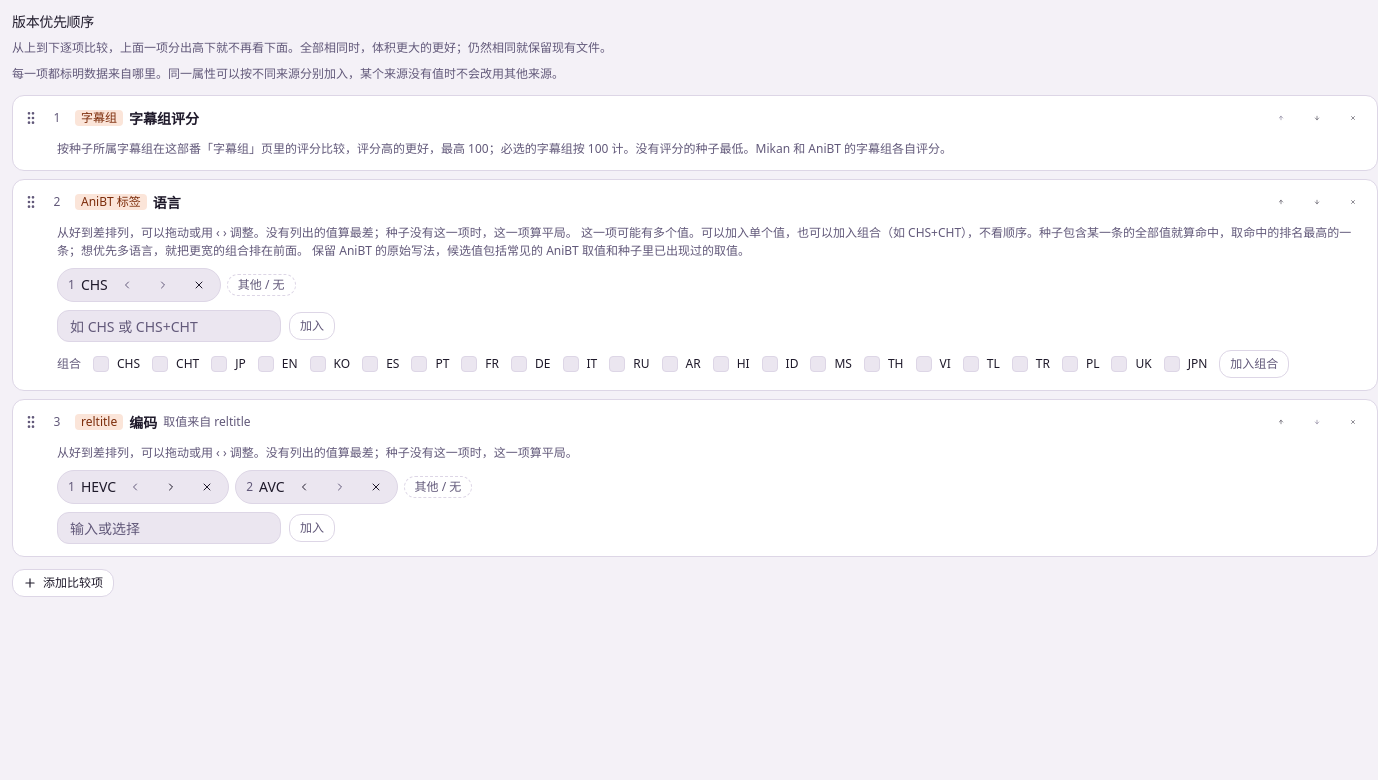
Scenario: QualityCompareEditor › marks rt items as reltitle values and offers new items grouped by source
Expected: the text "取值来自 reltitle" is shown once, x1=163 y1=414 x2=250 y2=430
Click the button "添加比较项" at (63, 583), box x1=12 y1=569 x2=114 y2=597
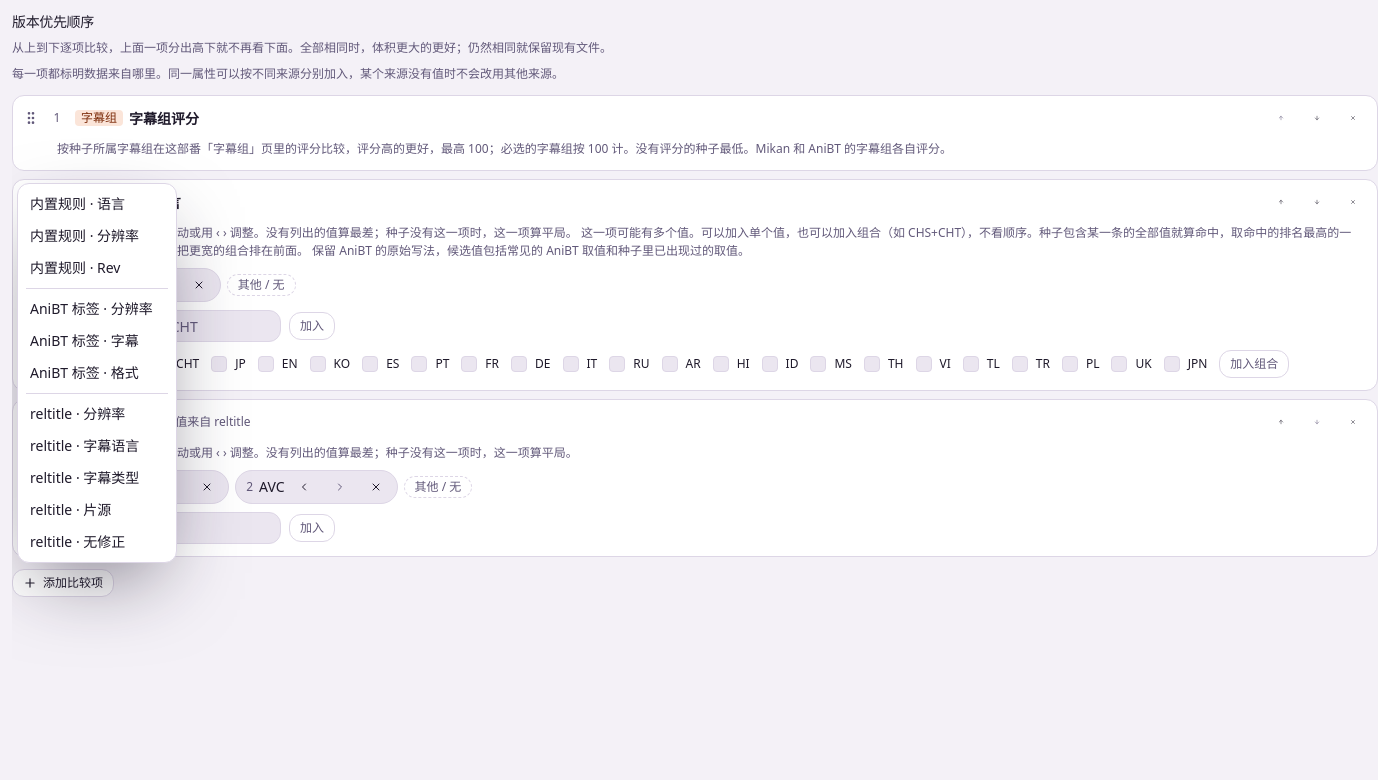
Click the menu item "reltitle · 字幕语言" at (85, 446), box x1=30 y1=436 x2=139 y2=455
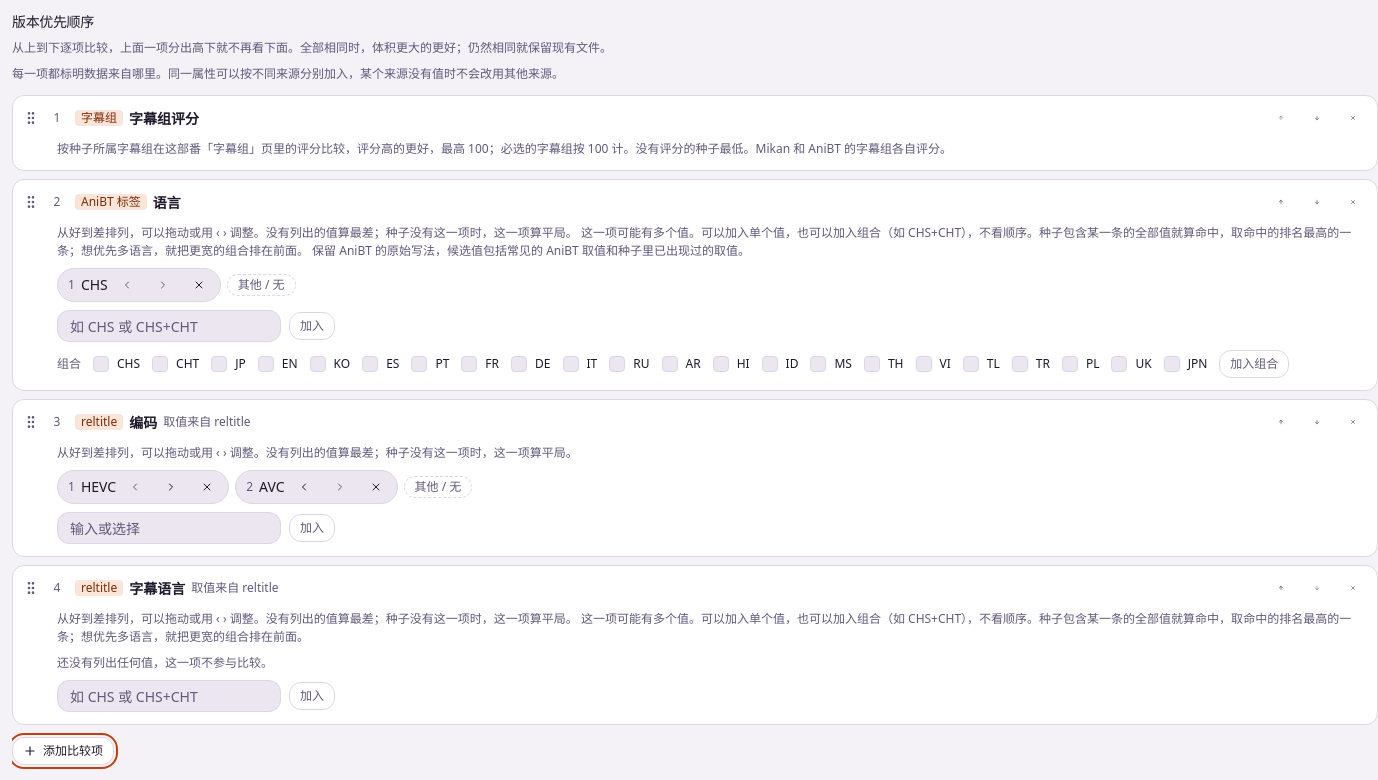
Expected: the text "取值来自 reltitle" is shown 2 times, x1=163 y1=414 x2=250 y2=430; x1=191 y1=580 x2=278 y2=596
Expected: the list item "还没有列出任何值，这一项不参与比较。" is shown, x1=57 y1=654 x2=273 y2=672
